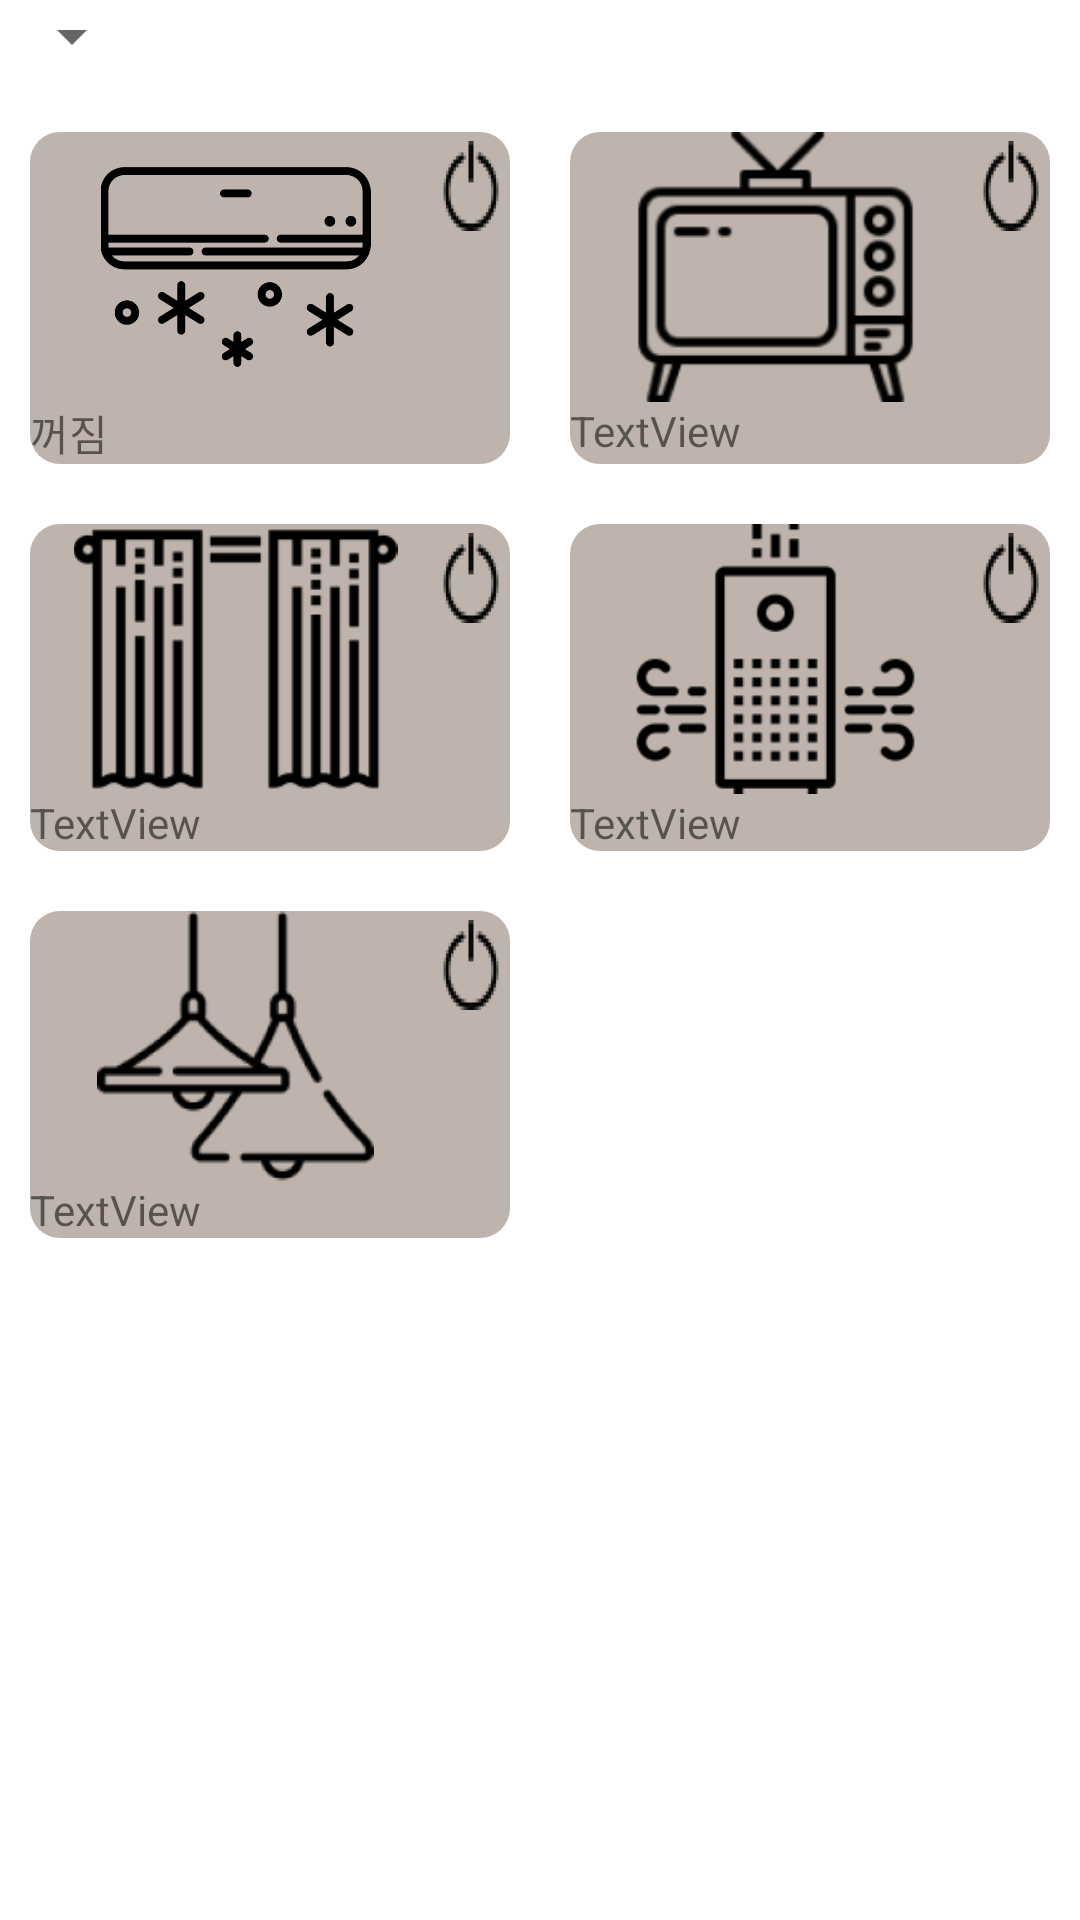

Point at icon controls on the screen. Image size 1080px×1920px, points as point (x, y).
curtain: point (236, 659)
power: point (471, 186), point (471, 578), point (471, 965)
